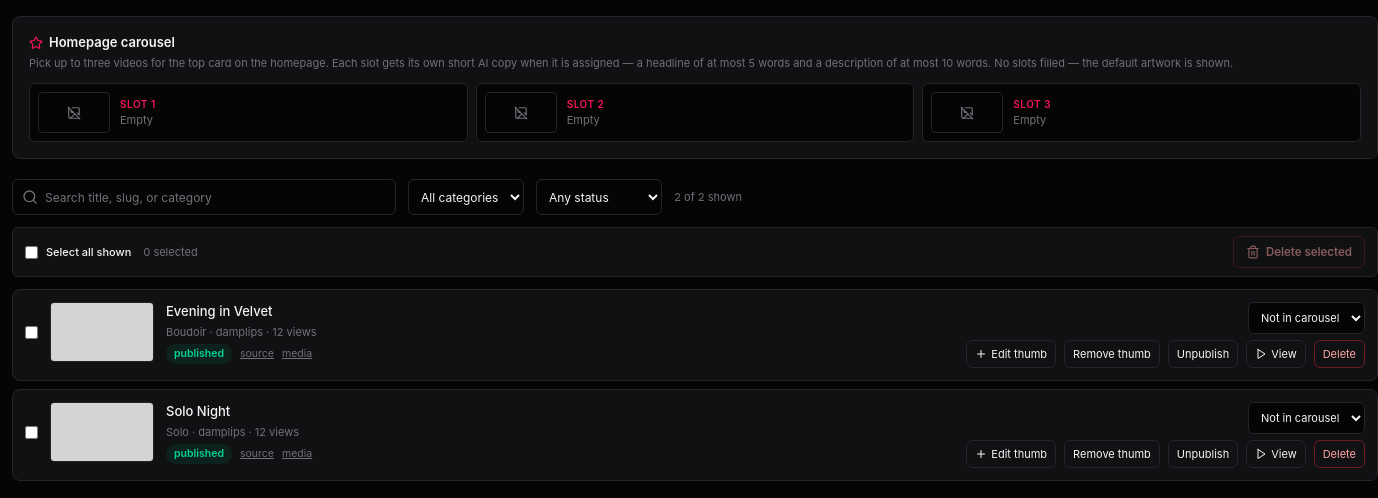
VideoManager — categories, select all, carousel, bulk actions › select all respects the active filter
Select "Solo" in the dropdown named "Filter by category" at (466, 197), box [408,179,524,215]
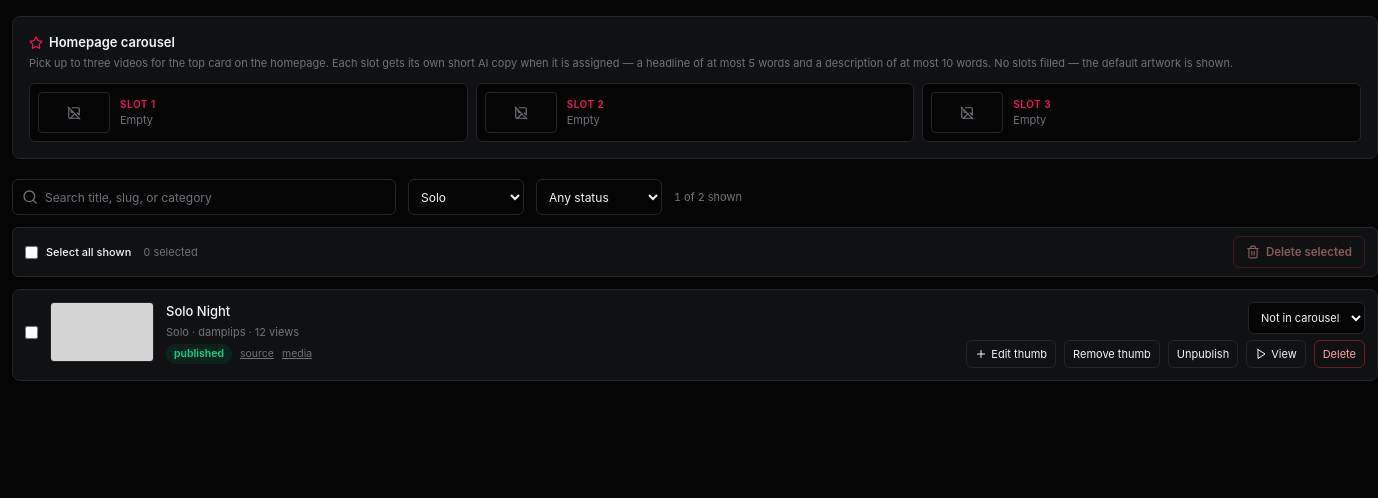
Click the checkbox named "Select all shown videos".
click(32, 252)  # box [25,246,38,259]
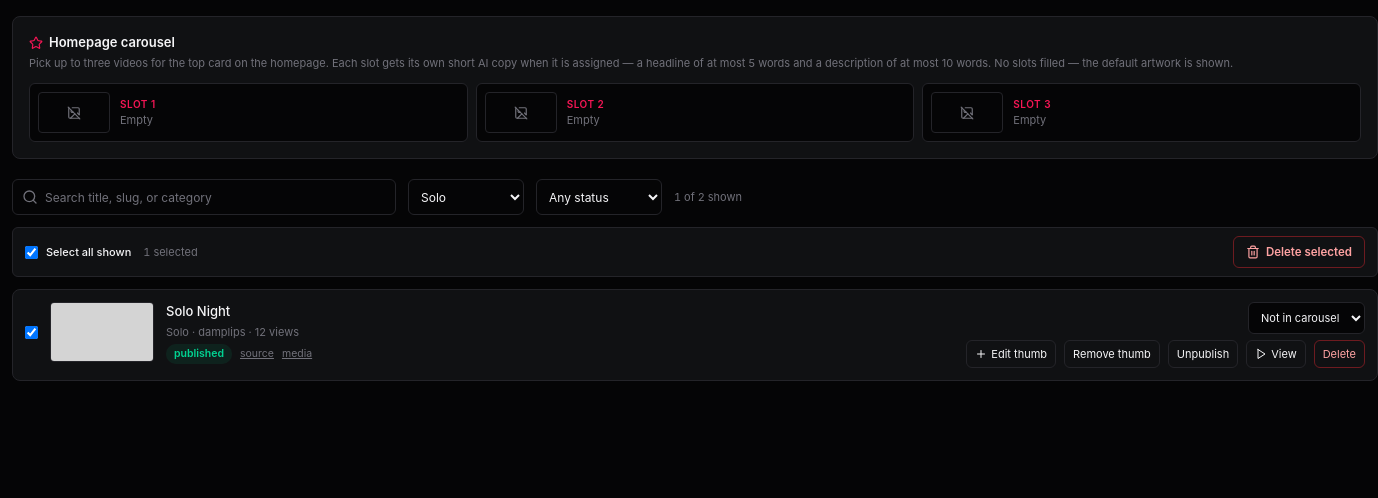
Result: the text "1 selected" is shown at [143,244,198,261]
